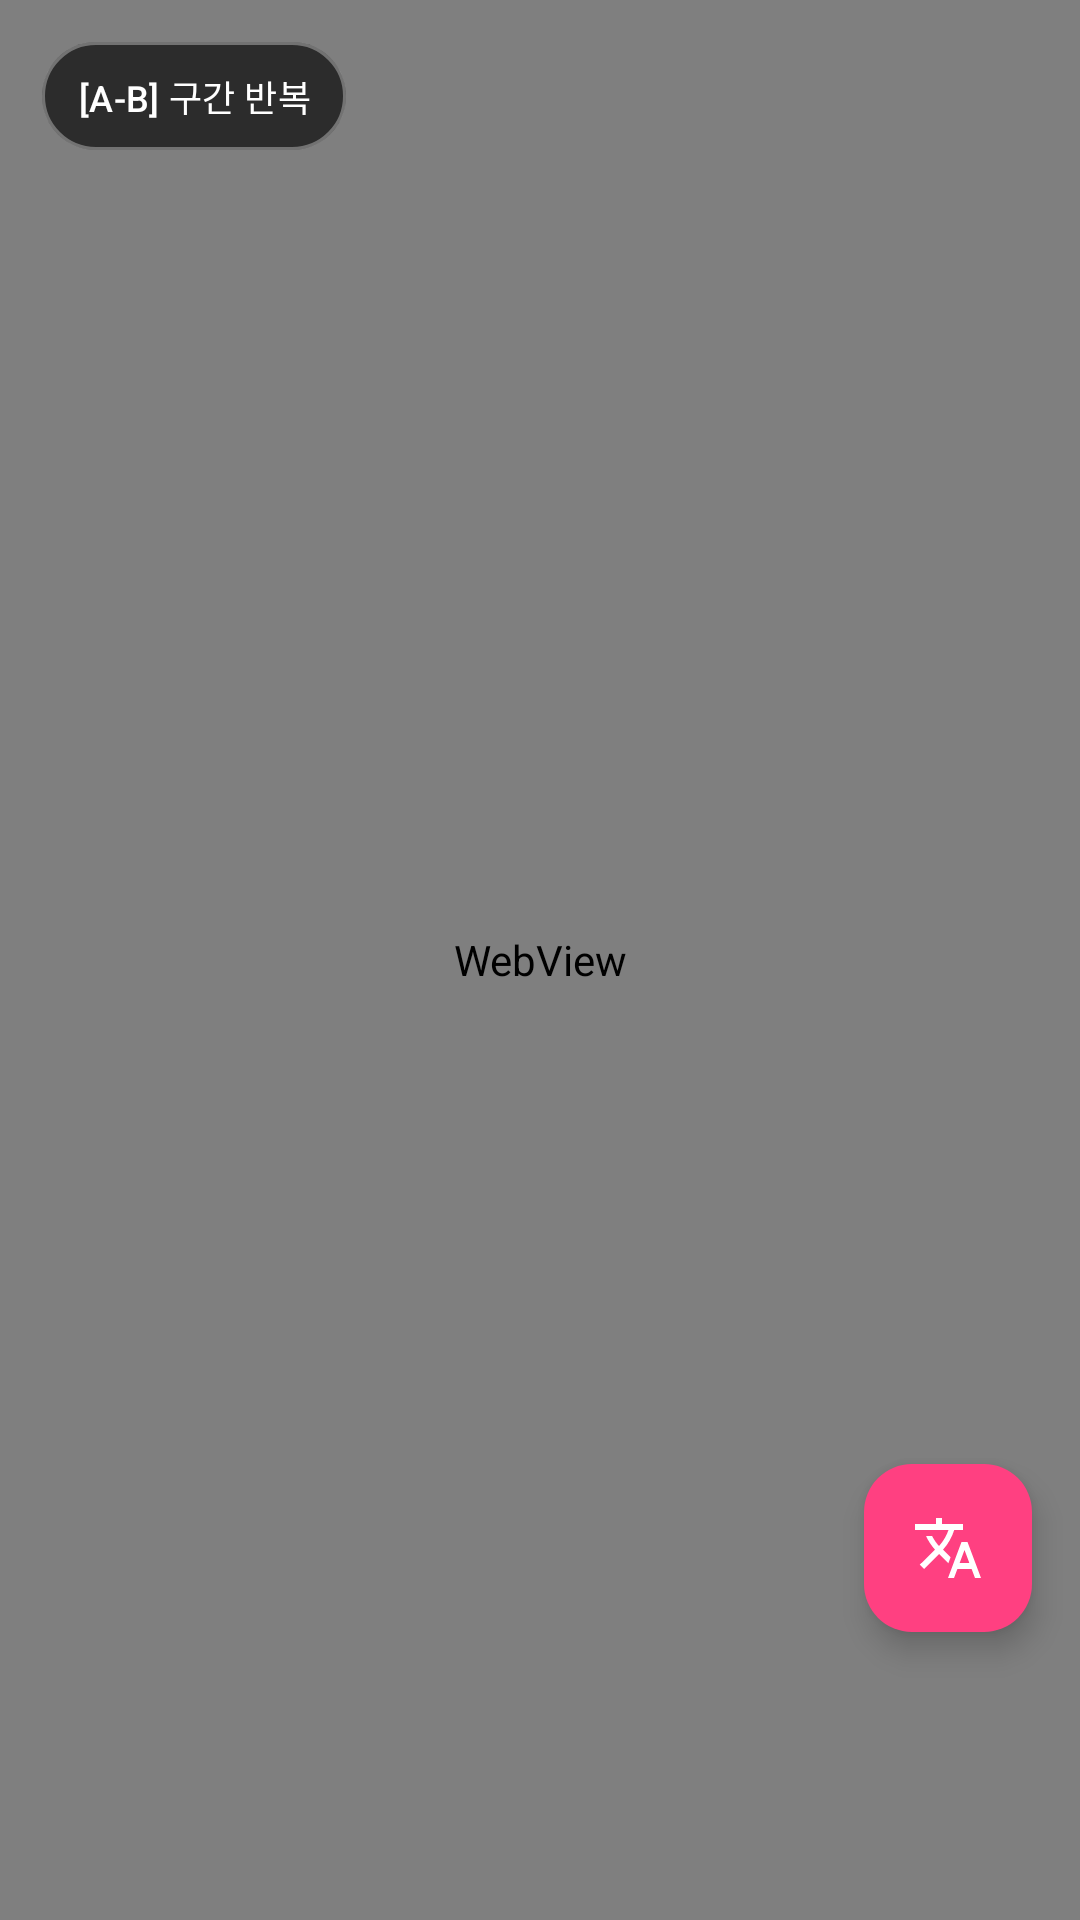

Where icons sit on this 1080 × 1920 app screen, as bbox=[x1, y1, x2, y2]:
translate: bbox=[864, 1464, 1032, 1632]
